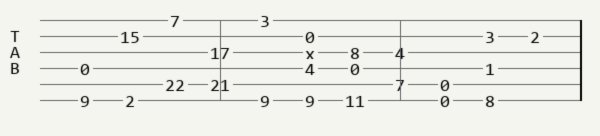0: (80, 61, 94, 76), (305, 29, 319, 44), (350, 61, 364, 76), (440, 77, 454, 92), (440, 93, 454, 108)
1: (485, 61, 499, 76)
11: (345, 93, 369, 108)
15: (120, 29, 144, 44)
17: (210, 45, 234, 60)
2: (125, 93, 139, 108), (530, 29, 544, 44)
21: (210, 77, 234, 92)
22: (165, 77, 189, 92)
3: (260, 13, 274, 28), (485, 29, 499, 44)
4: (305, 61, 319, 76), (395, 45, 409, 60)
7: (170, 13, 184, 28), (395, 77, 409, 92)
8: (350, 45, 364, 60), (485, 93, 499, 108)
9: (80, 93, 94, 108), (260, 93, 274, 108), (305, 93, 319, 108)
x: (305, 46, 319, 59)
